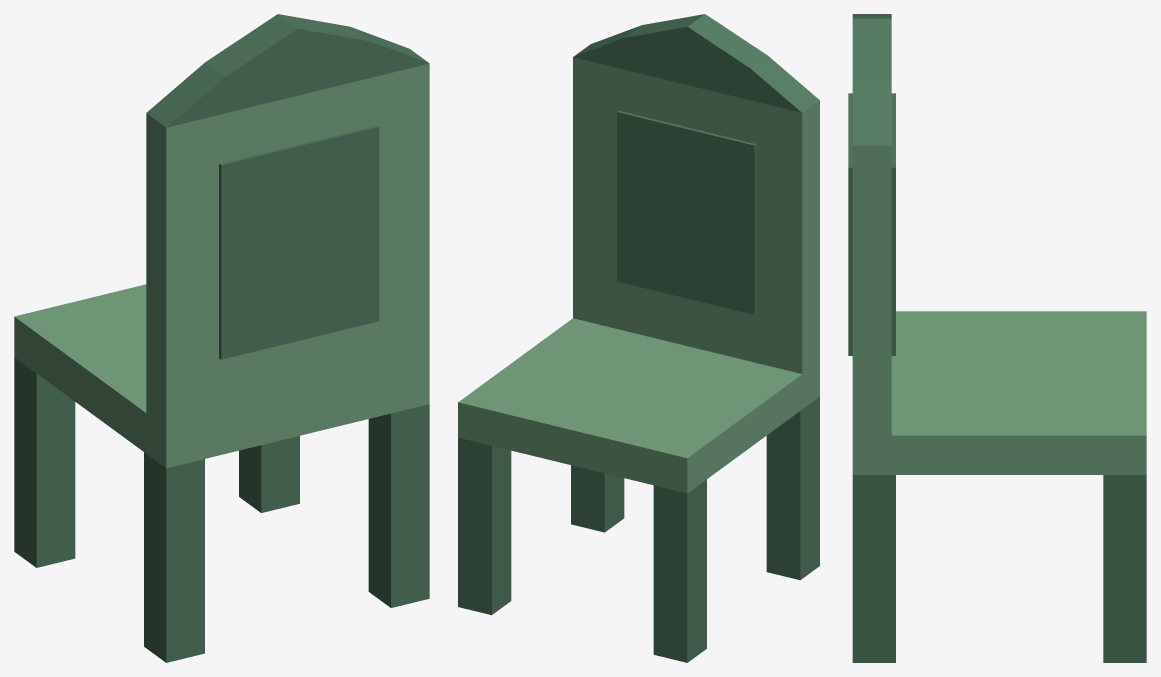
File: green_dungeon_chair_v0.glb
3 renders of one model, left to right at view 1: azimuth 30°, elevation 25°; view 2: azimuth 150°, elevation 25°; view 3: azimuth 270°, elevation 25°, orthographic. The views are drawn at different scales.
Visible parts, largest first — view 1: green_dungeon_chair_v0; view 2: green_dungeon_chair_v0; view 3: green_dungeon_chair_v0.
Boxes of the visible parts, x1,y1,x2,y2 form: green_dungeon_chair_v0: (14, 14, 429, 662); green_dungeon_chair_v0: (458, 14, 819, 662); green_dungeon_chair_v0: (848, 14, 1146, 662).
Bounding box in the file's own units: 0.68 × 1.49 × 0.69.
